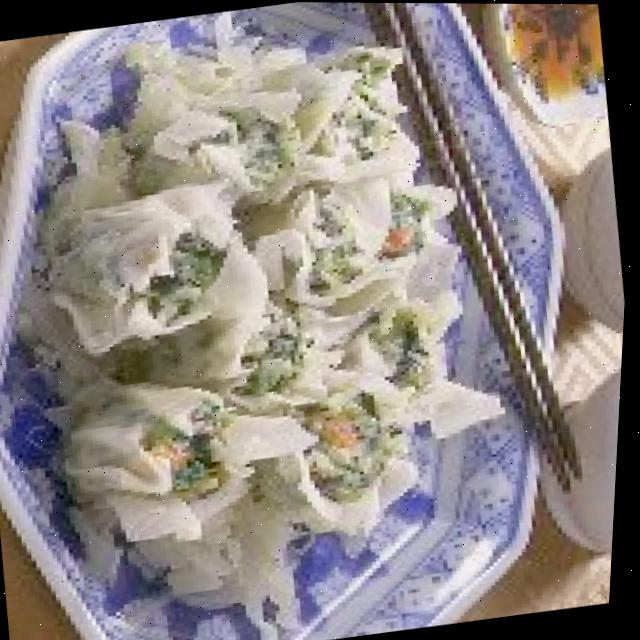带馅早点: (35, 15, 521, 565)
